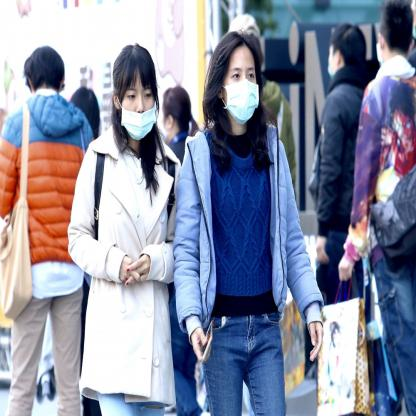Wearing_Mask: (224, 62, 260, 127), (118, 83, 156, 141)
